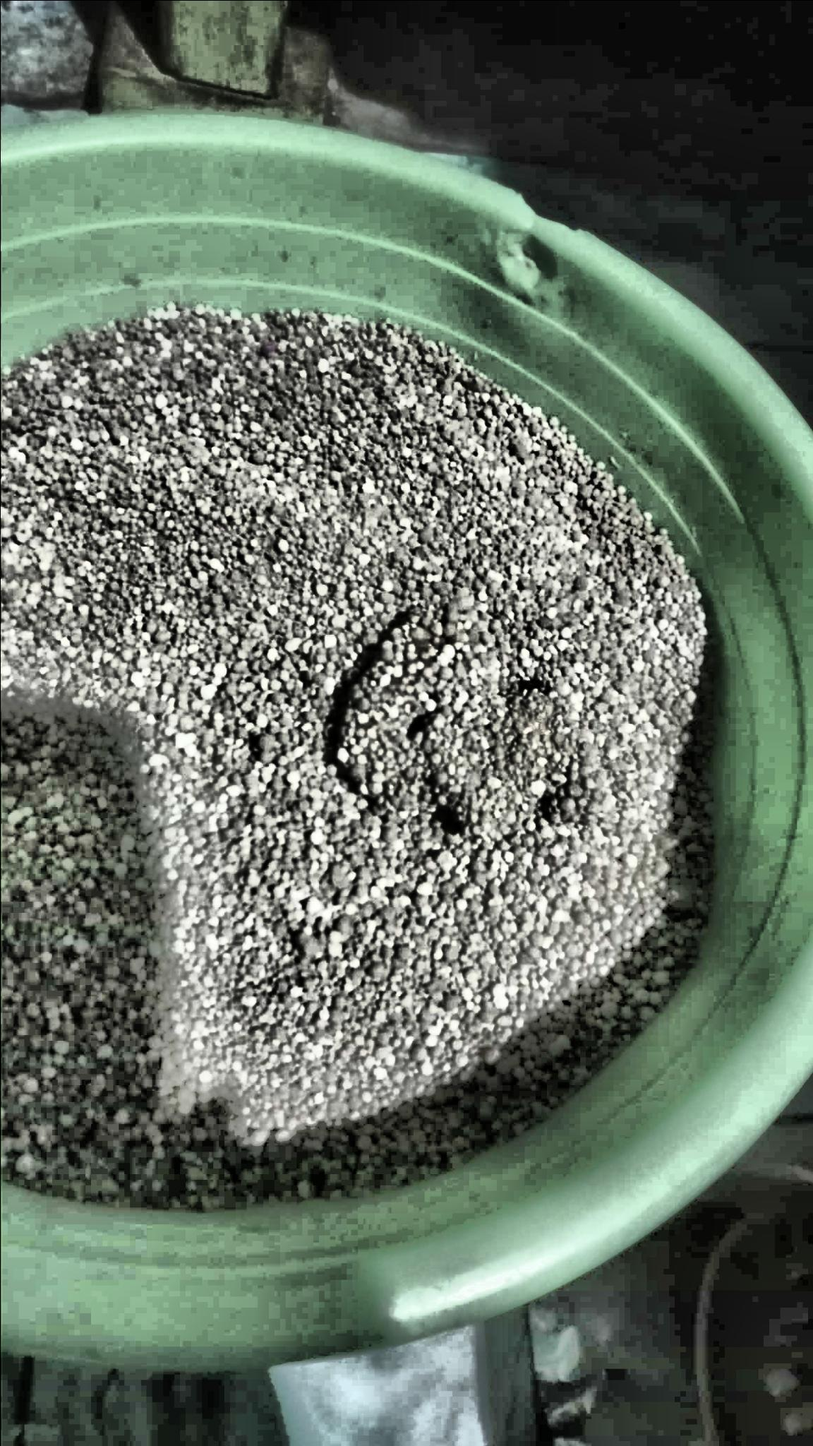poop: (339, 602, 576, 827)
